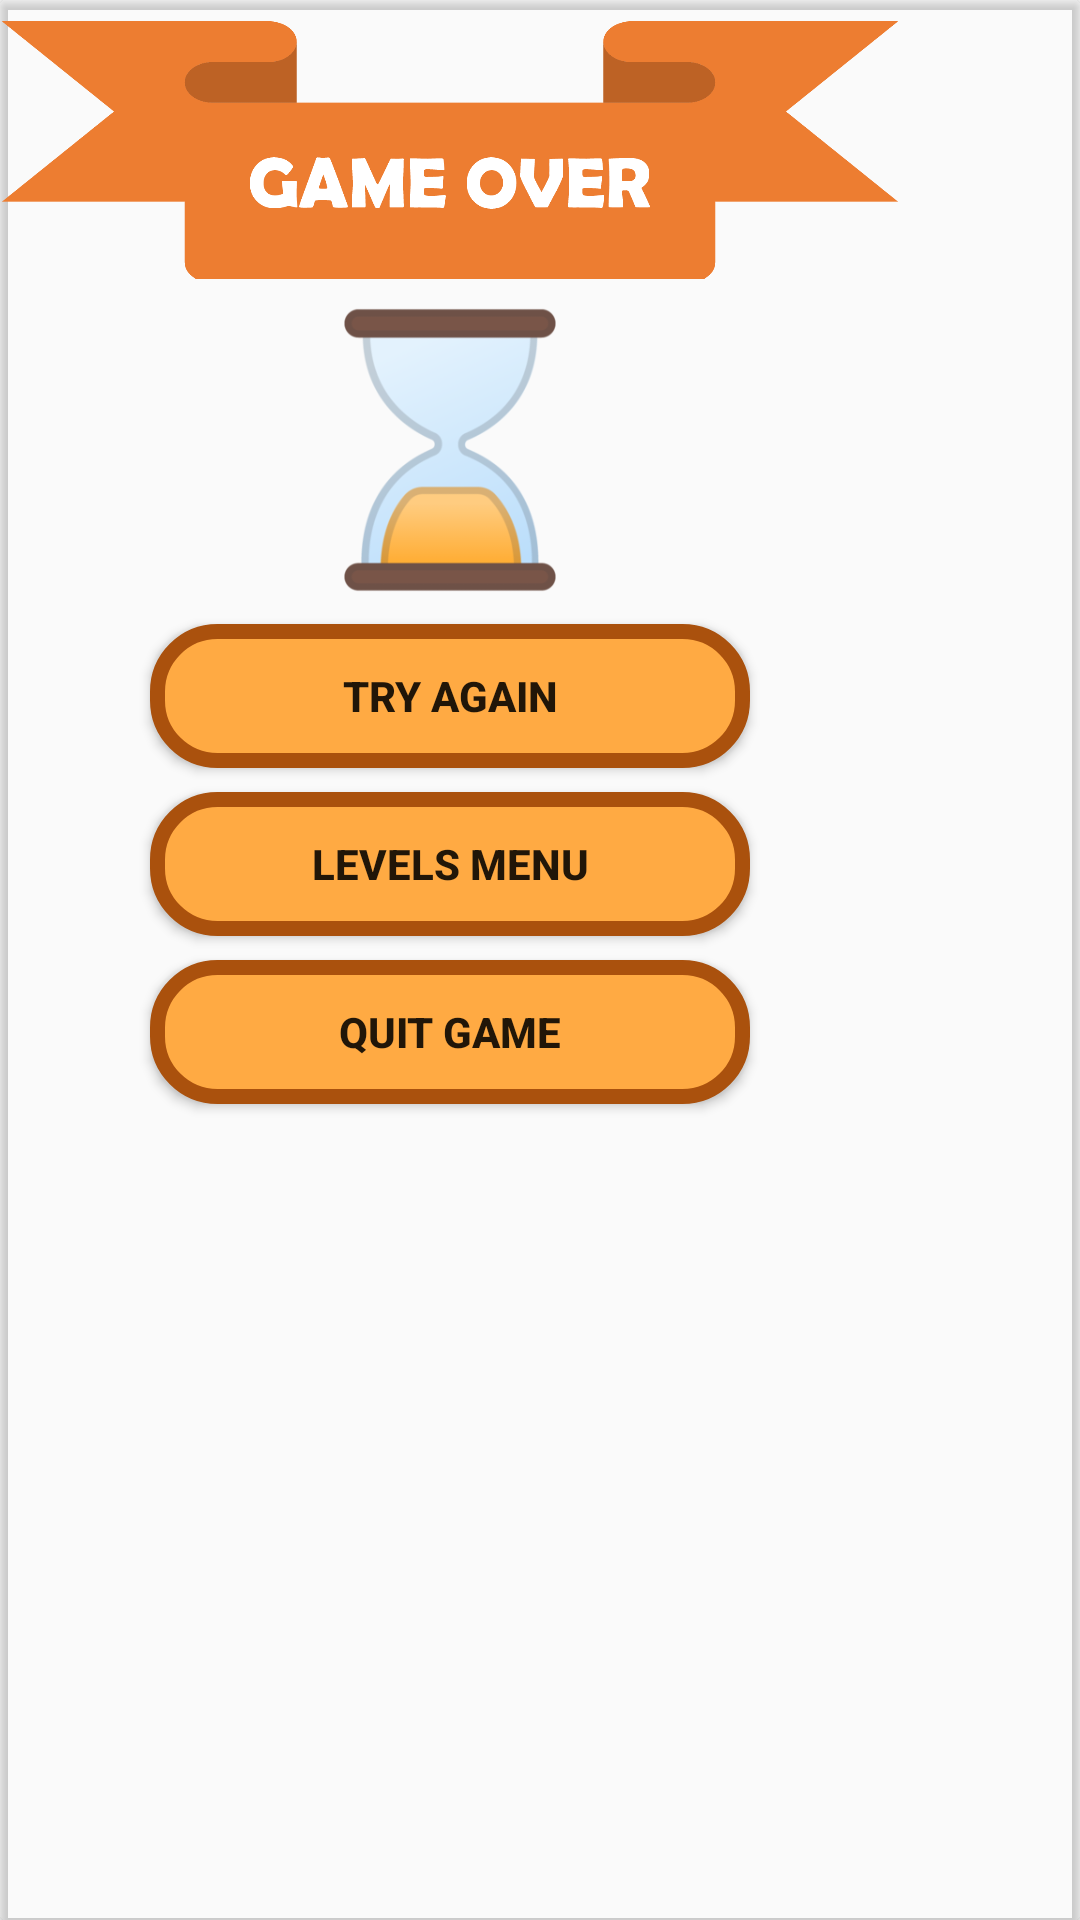

Icons on this 1080×1920 Android screen, each with its box as (x1=x1, y1=y1, x2=x2, y2=y2):
timeisup: (x1=344, y1=309, x2=556, y2=591)
